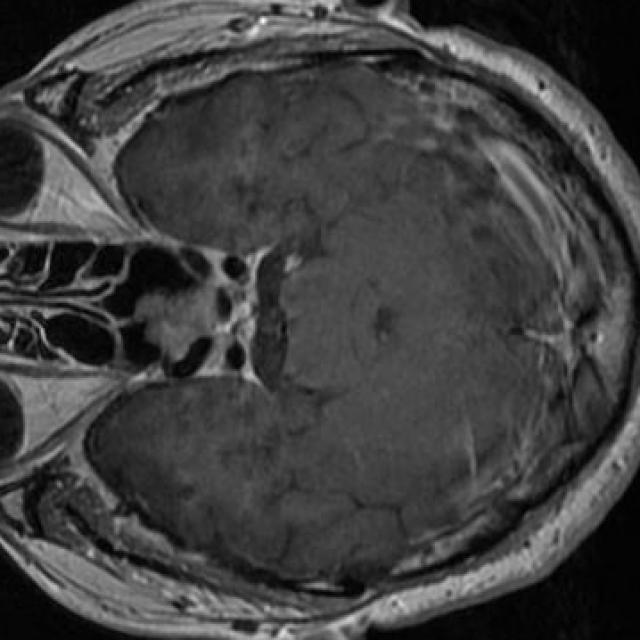pituitary: (135, 292, 212, 362)
